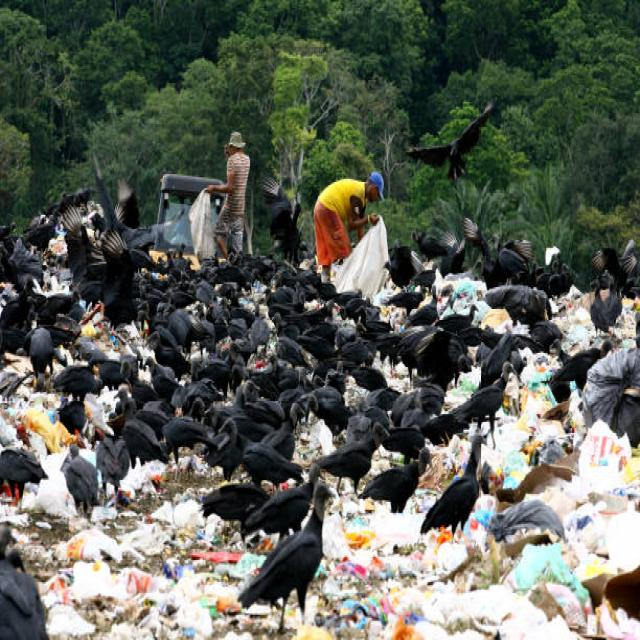trash: (49, 237, 627, 616)
